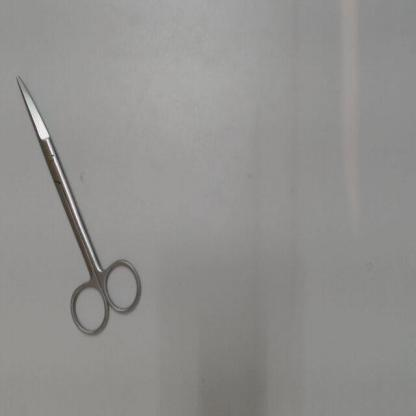Curved Mayo Scissors: (12, 68, 147, 342)
